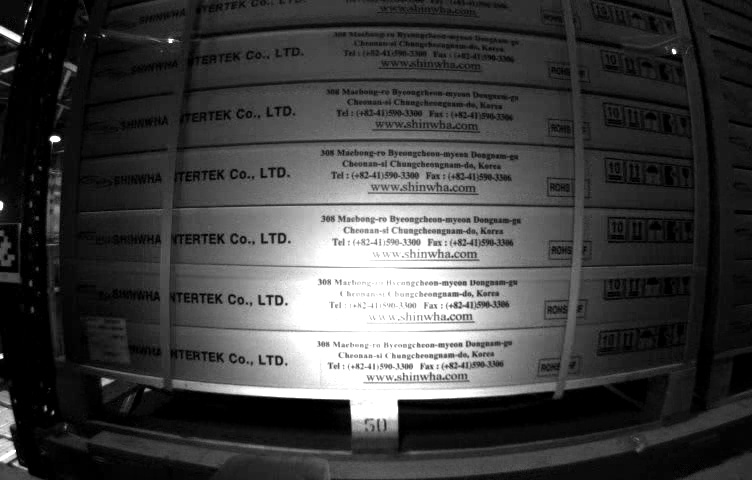True Barcode: (83, 318, 131, 366)
